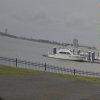Boat: (41, 36, 93, 63)
